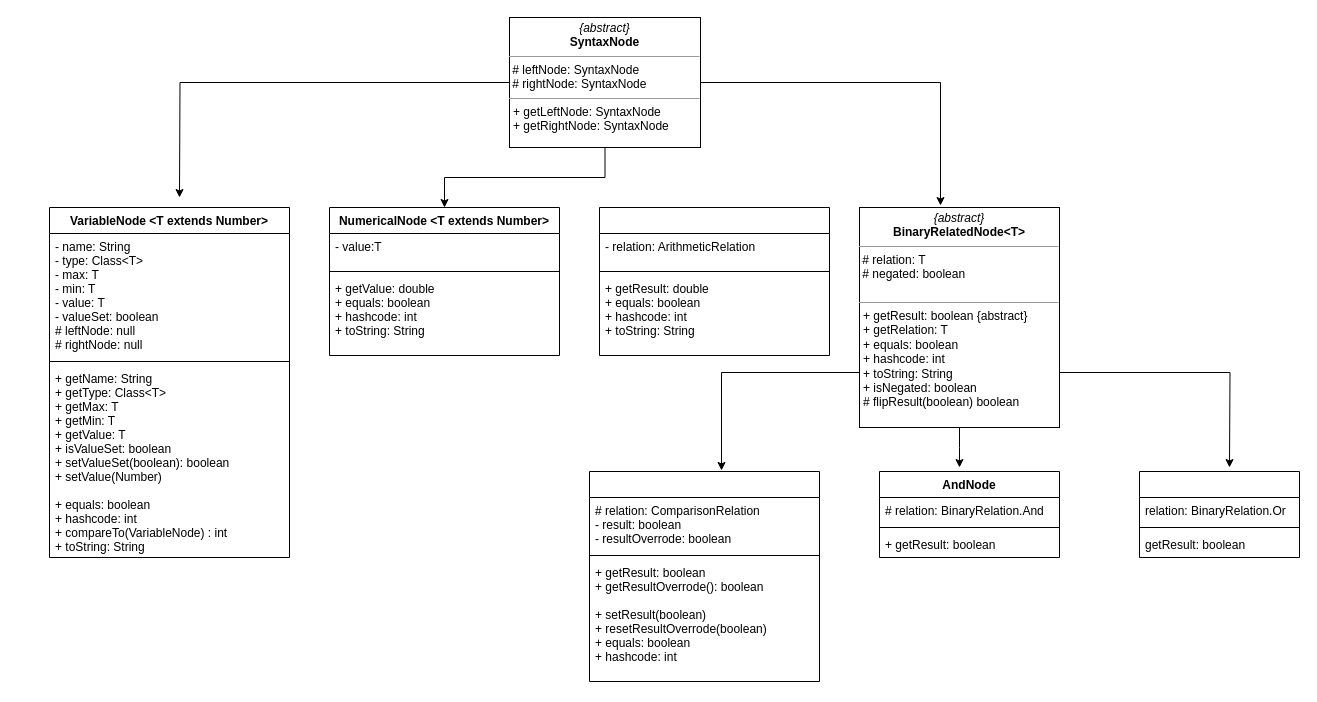
Some shapes in this 1317 by 702 pixel diagram are drawn without their labels. Here are the shapes that lost their labels. From the top down, the box of each, then its label:
(598, 206, 830, 356): ArithmeticNode
(1138, 470, 1300, 558): OrNode
(588, 470, 820, 682): ConditionNode
